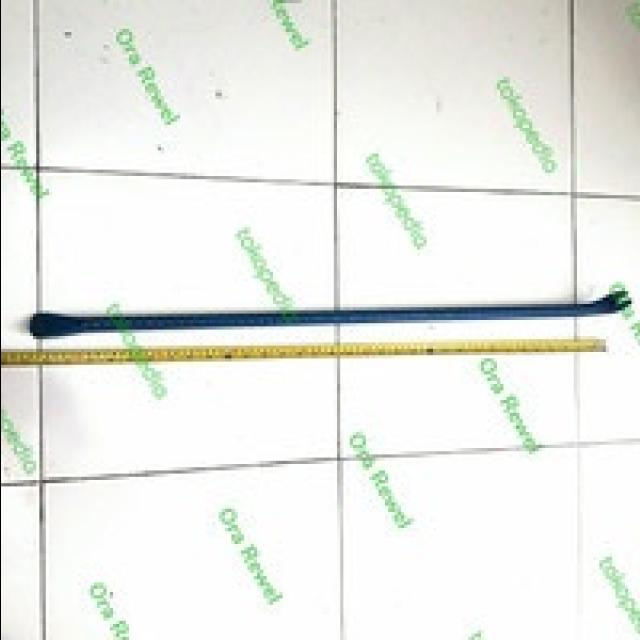Linggis: (29, 288, 634, 346)
